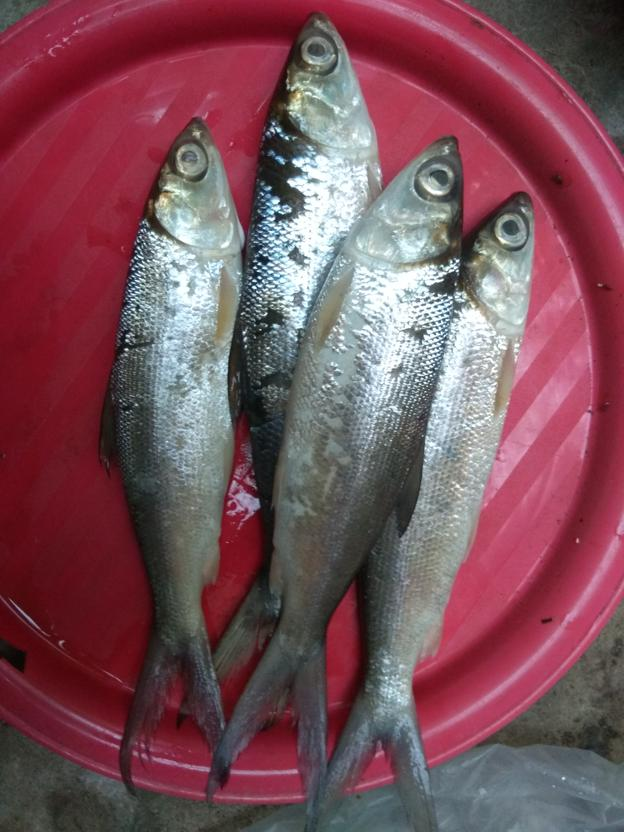Fish head: (264, 8, 382, 155), (345, 135, 467, 269), (144, 116, 245, 255), (463, 189, 539, 332)
Fish tail: (208, 630, 332, 827), (115, 611, 232, 801), (329, 684, 437, 829)
